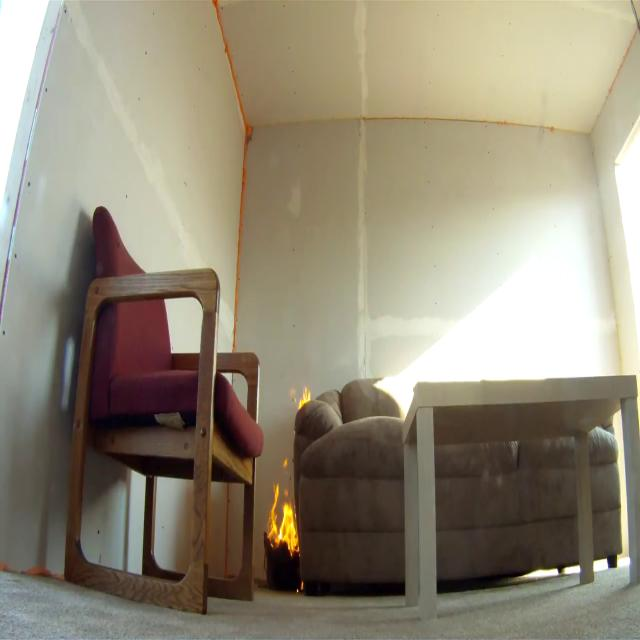fire: (264, 454, 302, 562), (294, 381, 313, 410)
